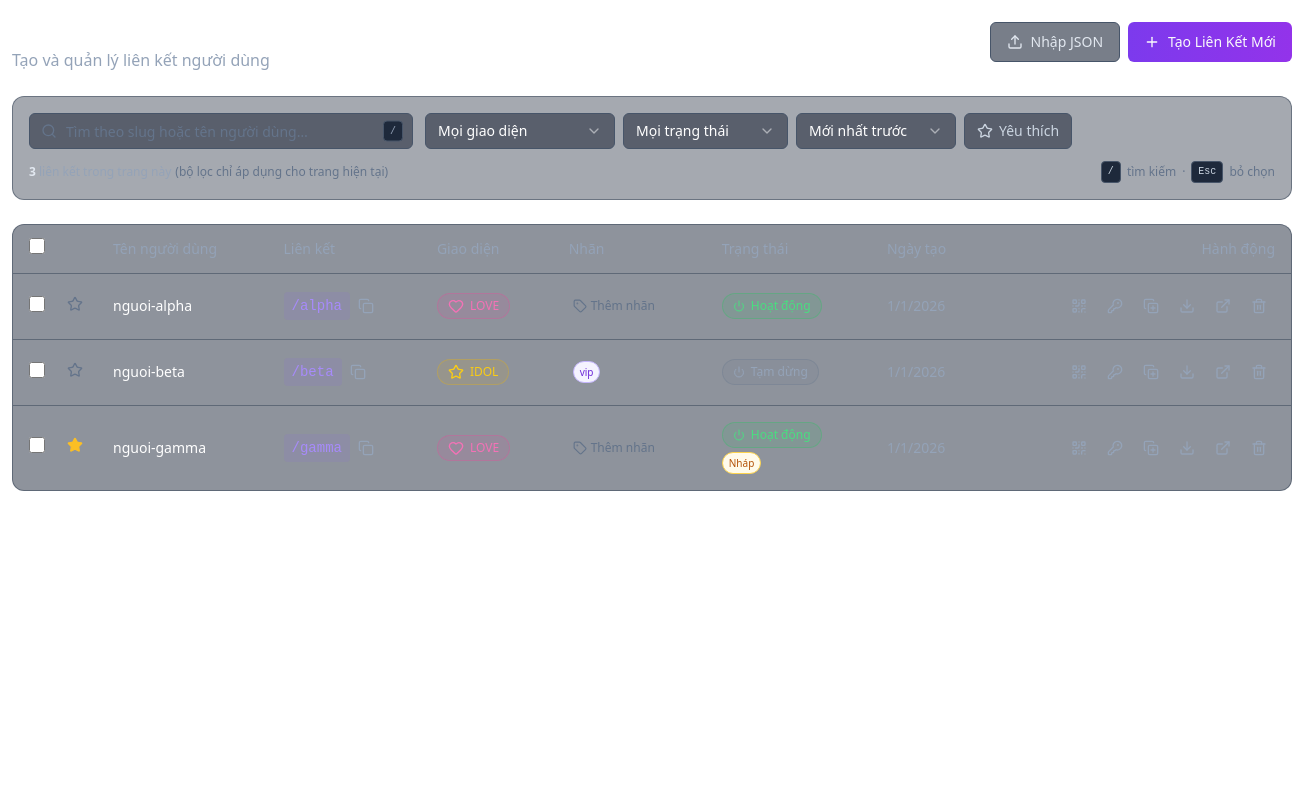
Test case: LinksTable — tìm kiếm, lọc, sắp xếp › dùng trạng thái rỗng KHÁC khi bộ lọc không khớp gì
The width and height of the screenshot is (1304, 812).
Type "khong-ton-tai" into the field labelled "Tìm theo slug hoặc tên người dùng…" at (221, 131), box top-left (29, 113), bottom-right (413, 149)
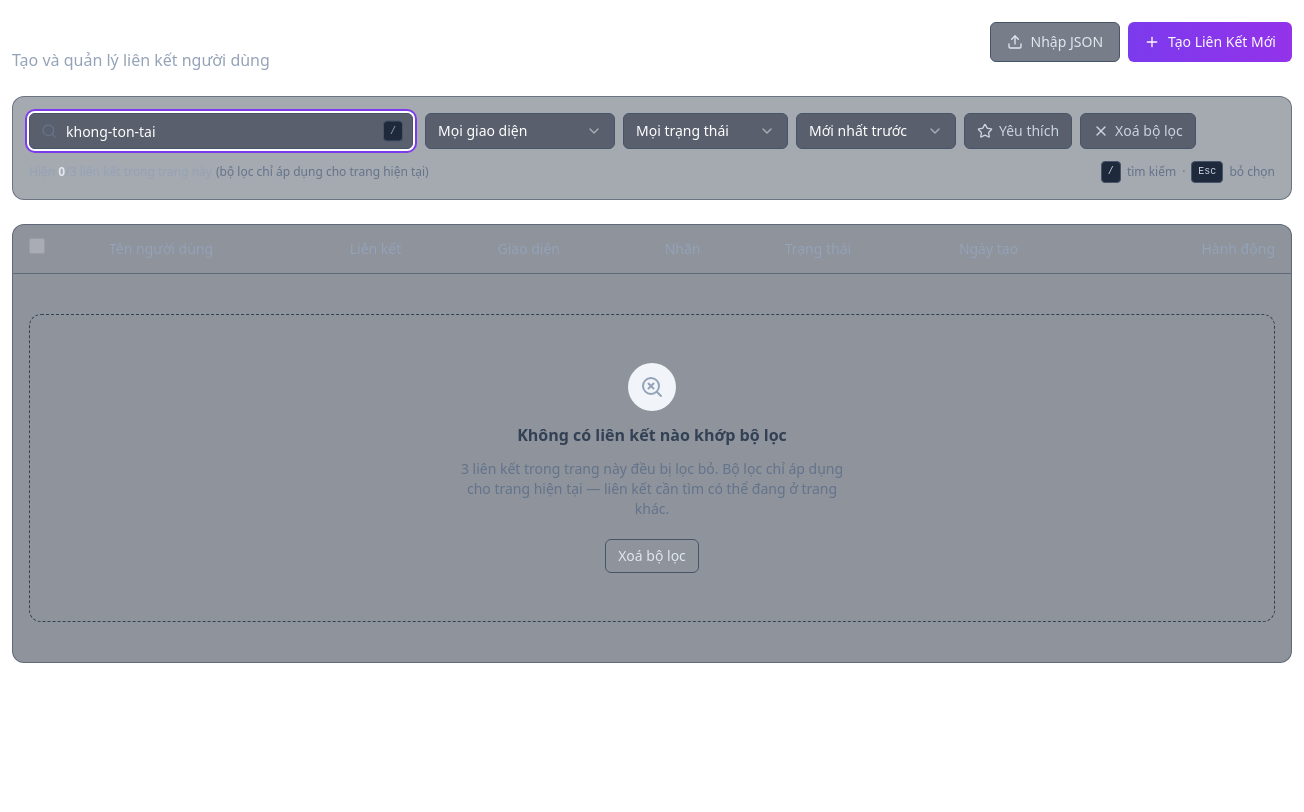
Result: the text "Không có liên kết nào khớp bộ lọc" is shown at top-left (517, 422), bottom-right (787, 446)
Result: the number of buttons "Xoá bộ lọc" is 2 at top-left (1080, 113), bottom-right (1196, 149); top-left (605, 538), bottom-right (699, 572)
